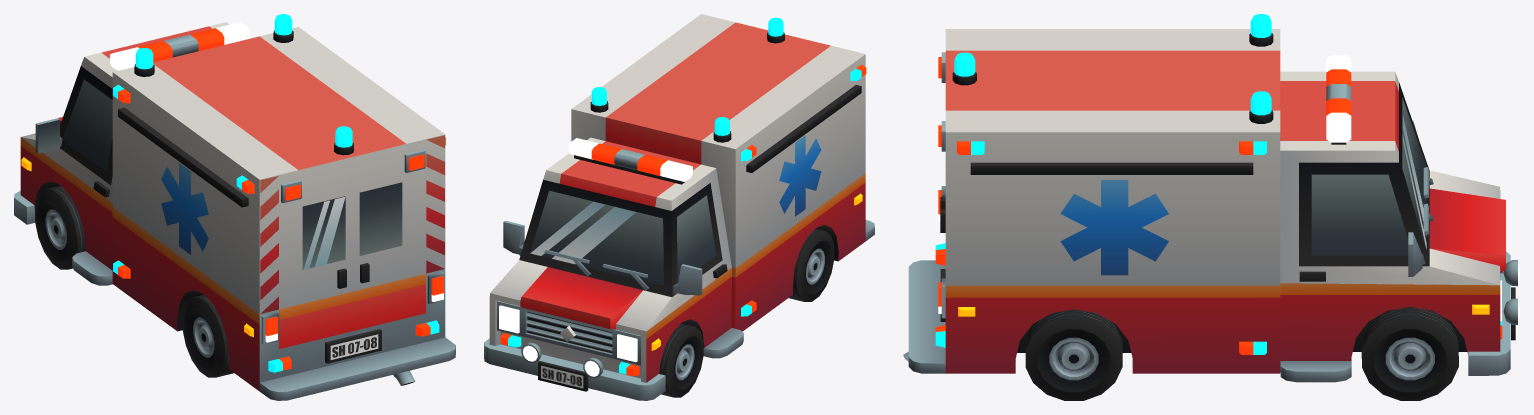
Rendered from emergency.glb.
The picture shows the model from 3 angles, left to right: view 1: azimuth 30°, elevation 25°; view 2: azimuth 150°, elevation 25°; view 3: azimuth 270°, elevation 25°; orthographic projection. The views are drawn at different scales.
Parts seen in each view (by area): view 1: emergency; view 2: emergency; view 3: emergency.
Boxes of the visible parts, <box> form: emergency: <box>14,14,455,400</box>; emergency: <box>484,14,874,400</box>; emergency: <box>903,14,1519,400</box>.
Size of the model in its own units: 2.71 by 3.01 by 5.7.
Materials: 2 (2 with a texture image).
